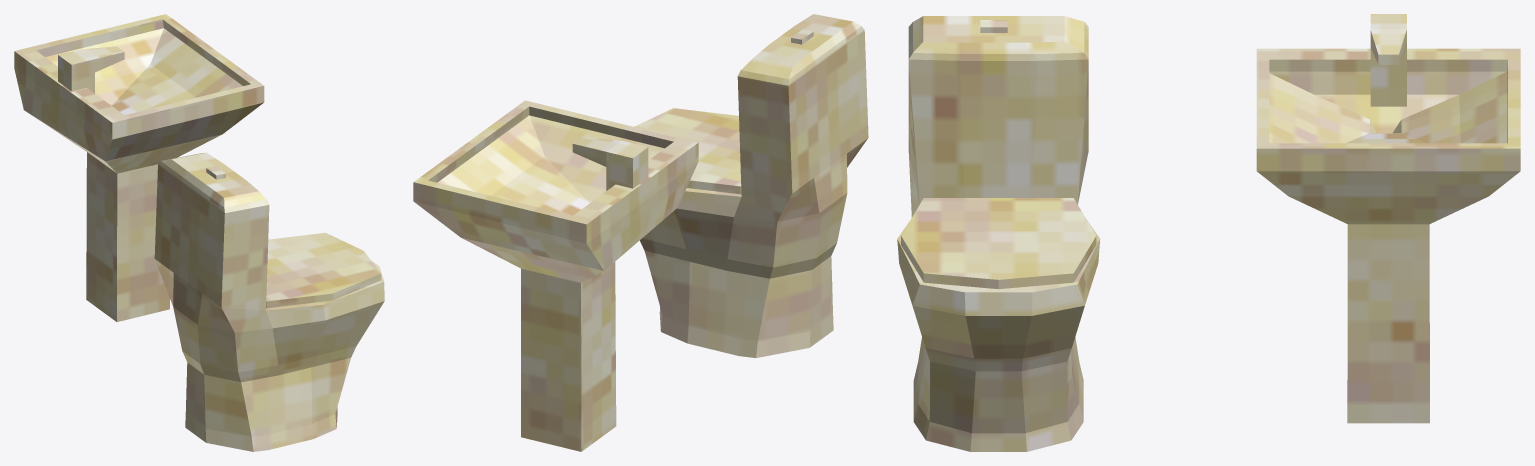
Rendered from bathroom.fbx.
3 views of the same model, side by side, from view 1: azimuth 30°, elevation 25°; view 2: azimuth 150°, elevation 25°; view 3: azimuth 270°, elevation 25° (orthographic). The views are drawn at different scales.
Visible parts, largest first — view 1: toilet, Sink; view 2: toilet, Sink; view 3: toilet, Sink.
Boxes of the visible parts, x1,y1,x2,y2 form: toilet: (154,152,384,451); Sink: (14,14,264,321); toilet: (634,14,868,357); Sink: (413,100,698,451); toilet: (897,16,1100,451); Sink: (1256,14,1520,423).
Size of the model in its own units: 74.4 by 105 by 163.
2 materials, 2 textured.
